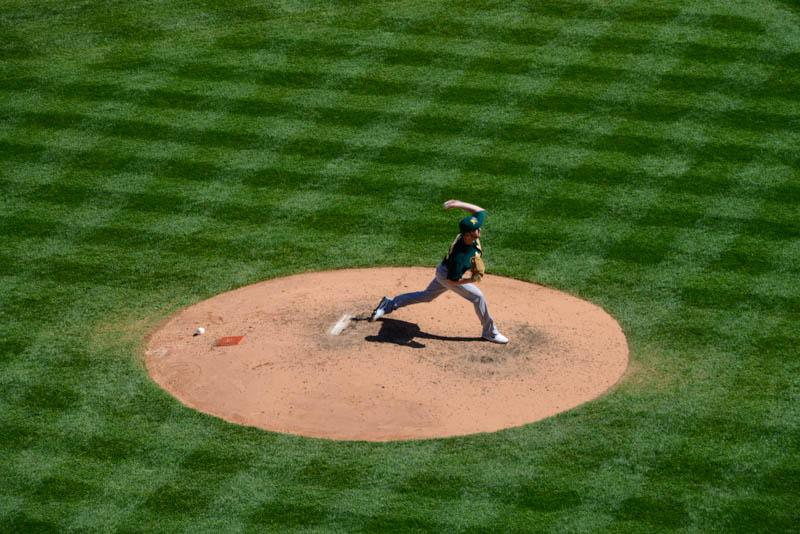baseball: (442, 201, 450, 210), (196, 327, 204, 336)
